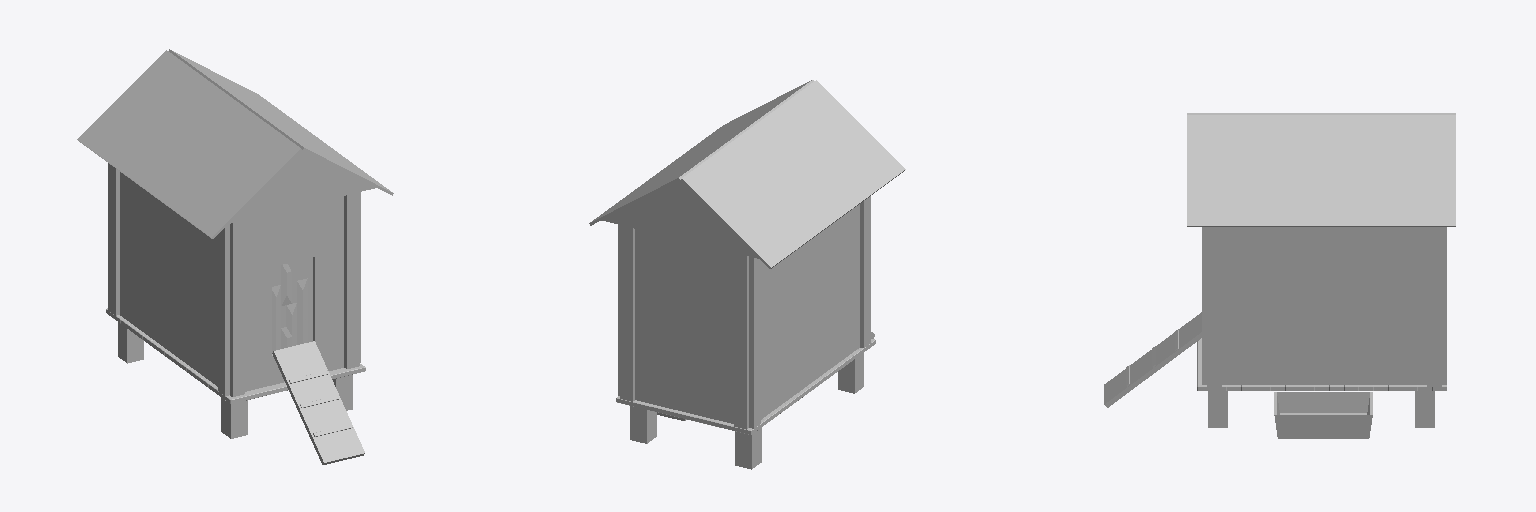
File: ChickenCoop.obj
3 renders of one model, left to right at view 1: azimuth 30°, elevation 25°; view 2: azimuth 150°, elevation 25°; view 3: azimuth 270°, elevation 25°, orthographic.
Parts seen in each view (by area): view 1: Coop_Coop, Basket&Cloth_Basket&Cloth; view 2: Coop_Coop; view 3: Coop_Coop, Basket&Cloth_Basket&Cloth.
Boxes of the visible parts, x1,y1,x2,y2 form: Coop_Coop: [77, 49, 393, 464]; Basket&Cloth_Basket&Cloth: [272, 257, 312, 352]; Coop_Coop: [589, 80, 905, 469]; Coop_Coop: [1104, 113, 1455, 427]; Basket&Cloth_Basket&Cloth: [1274, 392, 1372, 438].
Bounding box in the file's own units: 167 × 249 × 279.